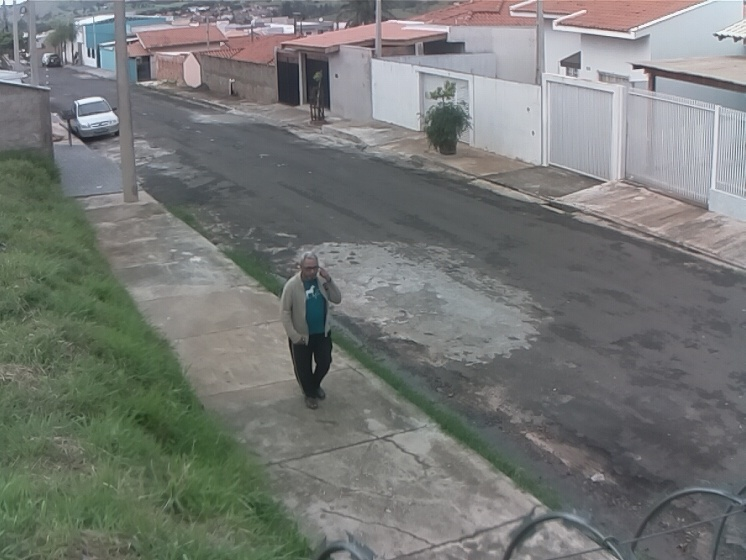person: (278, 249, 345, 413)
